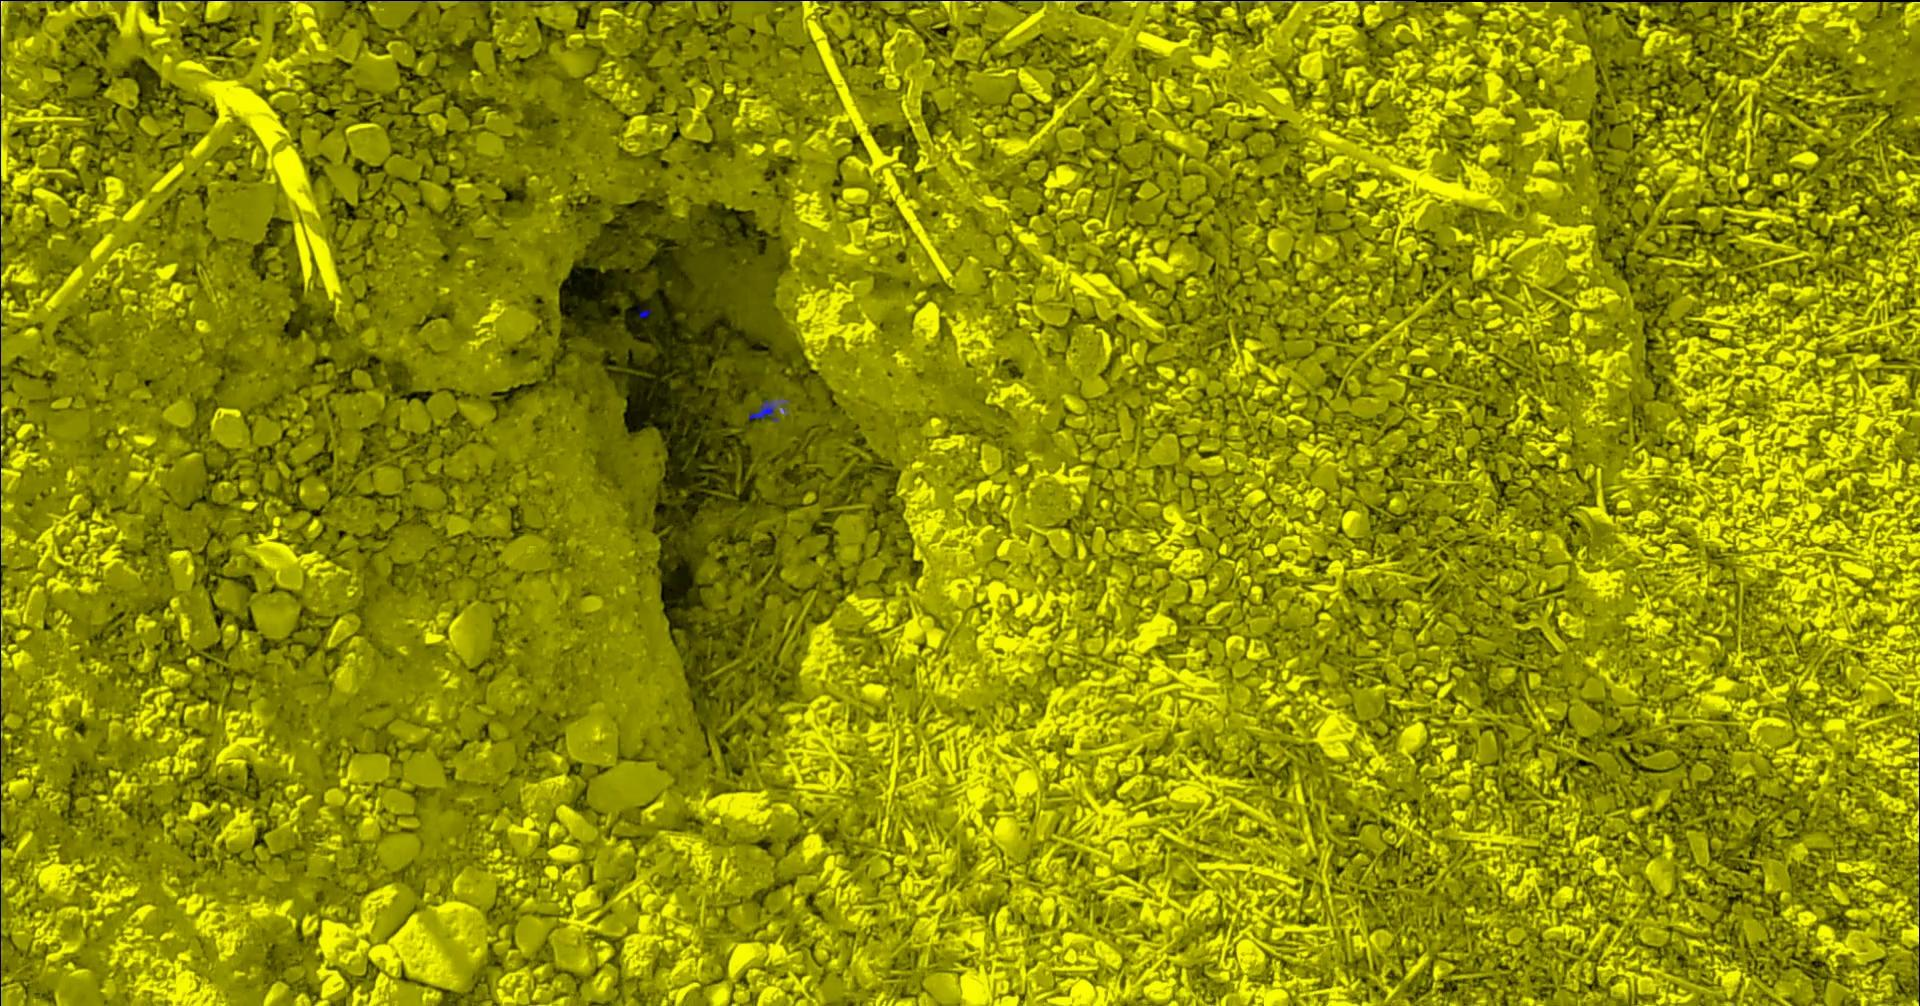ant: (748, 398, 789, 422)
